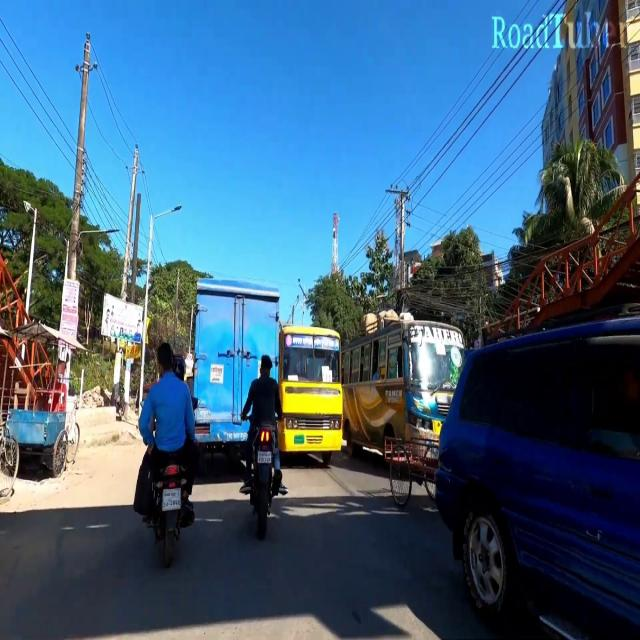blue: (436, 319, 640, 640)
